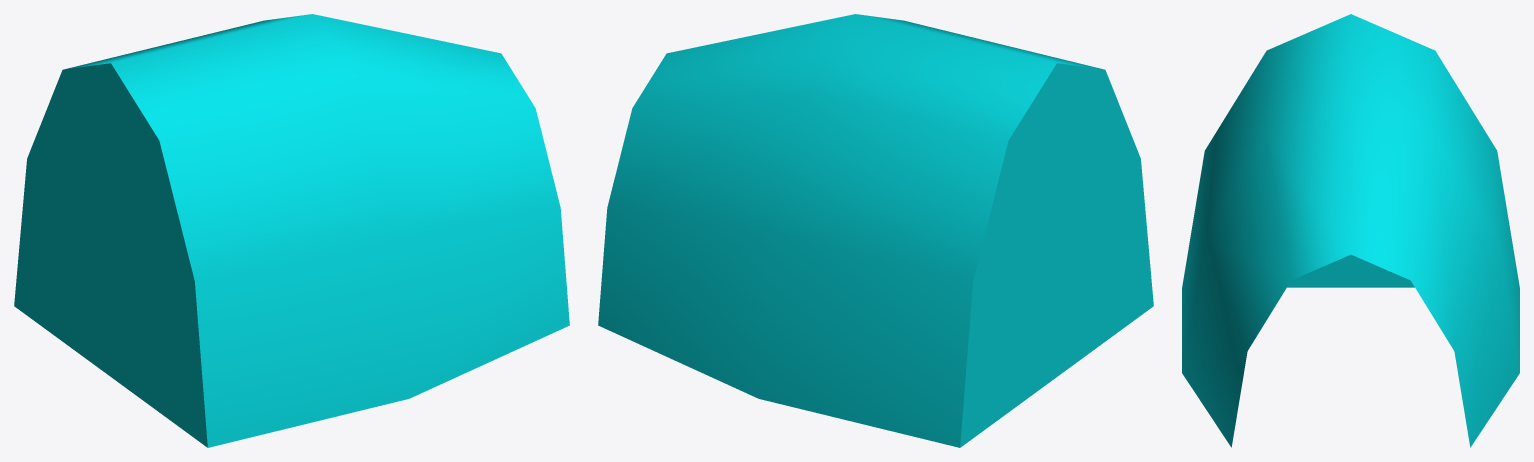
File: ComandoVagaoFinal.fbx
The picture shows the model from 3 angles, left to right: view 1: azimuth 30°, elevation 25°; view 2: azimuth 150°, elevation 25°; view 3: azimuth 270°, elevation 25°; orthographic projection. The views are drawn at different scales.
Parts seen in each view (by area): view 1: Circle; view 2: Circle; view 3: Circle.
Boxes of the visible parts, x1=… form: Circle: x1=14, y1=14, x2=569, y2=447; Circle: x1=598, y1=14, x2=1153, y2=447; Circle: x1=1182, y1=14, x2=1519, y2=447.
Bounding box in the file's own units: 4842 × 3720 × 4162.
